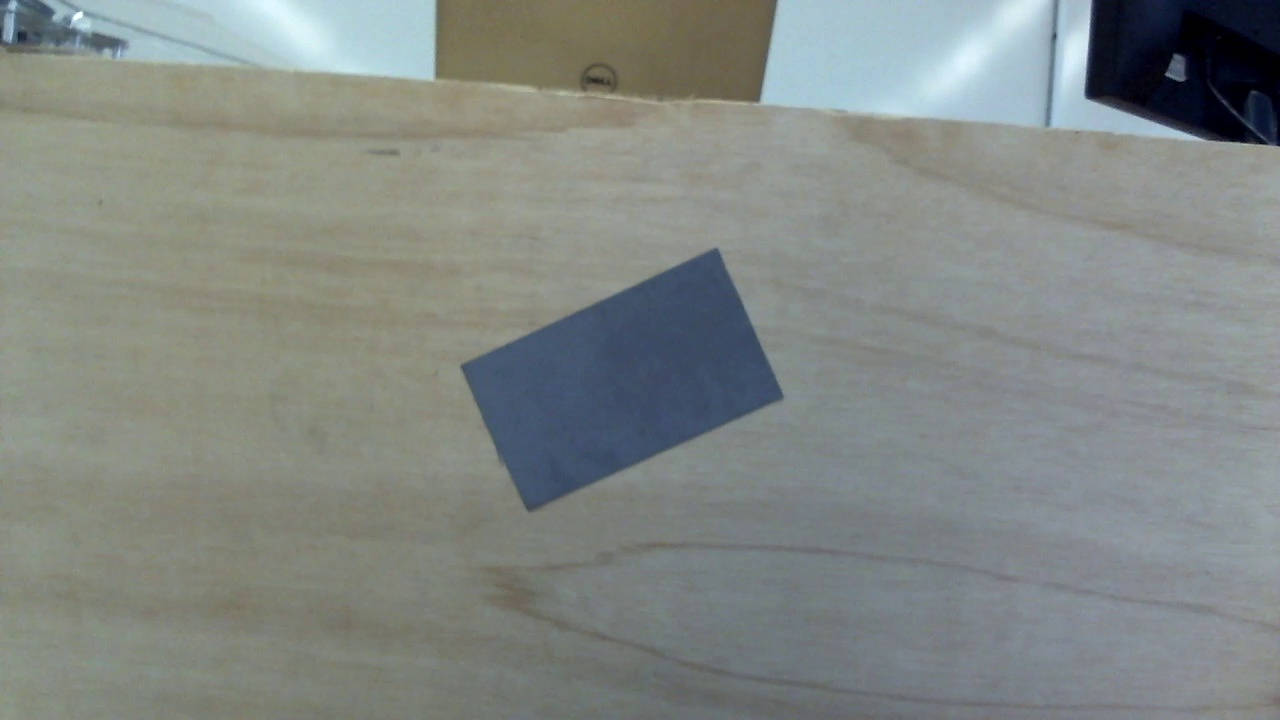Tape: (460, 250, 785, 509)
